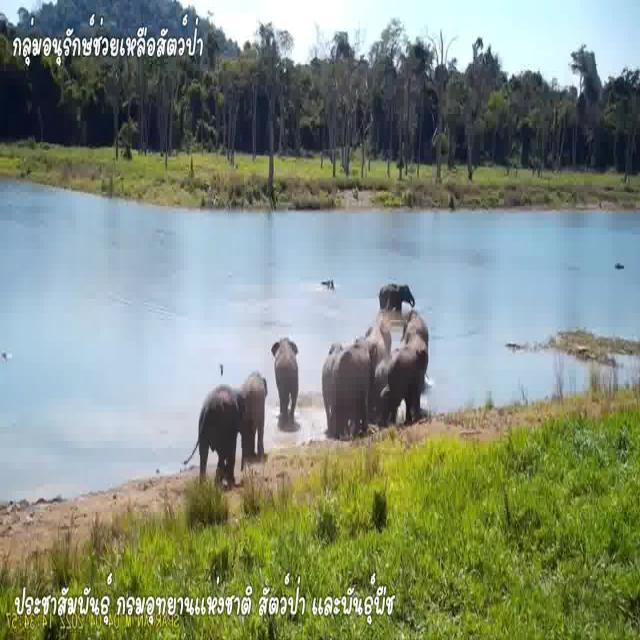Elephant: (203, 383, 244, 468), (332, 340, 373, 418), (382, 342, 423, 412), (270, 328, 304, 409), (242, 361, 268, 435), (380, 276, 416, 316), (407, 310, 425, 352)
